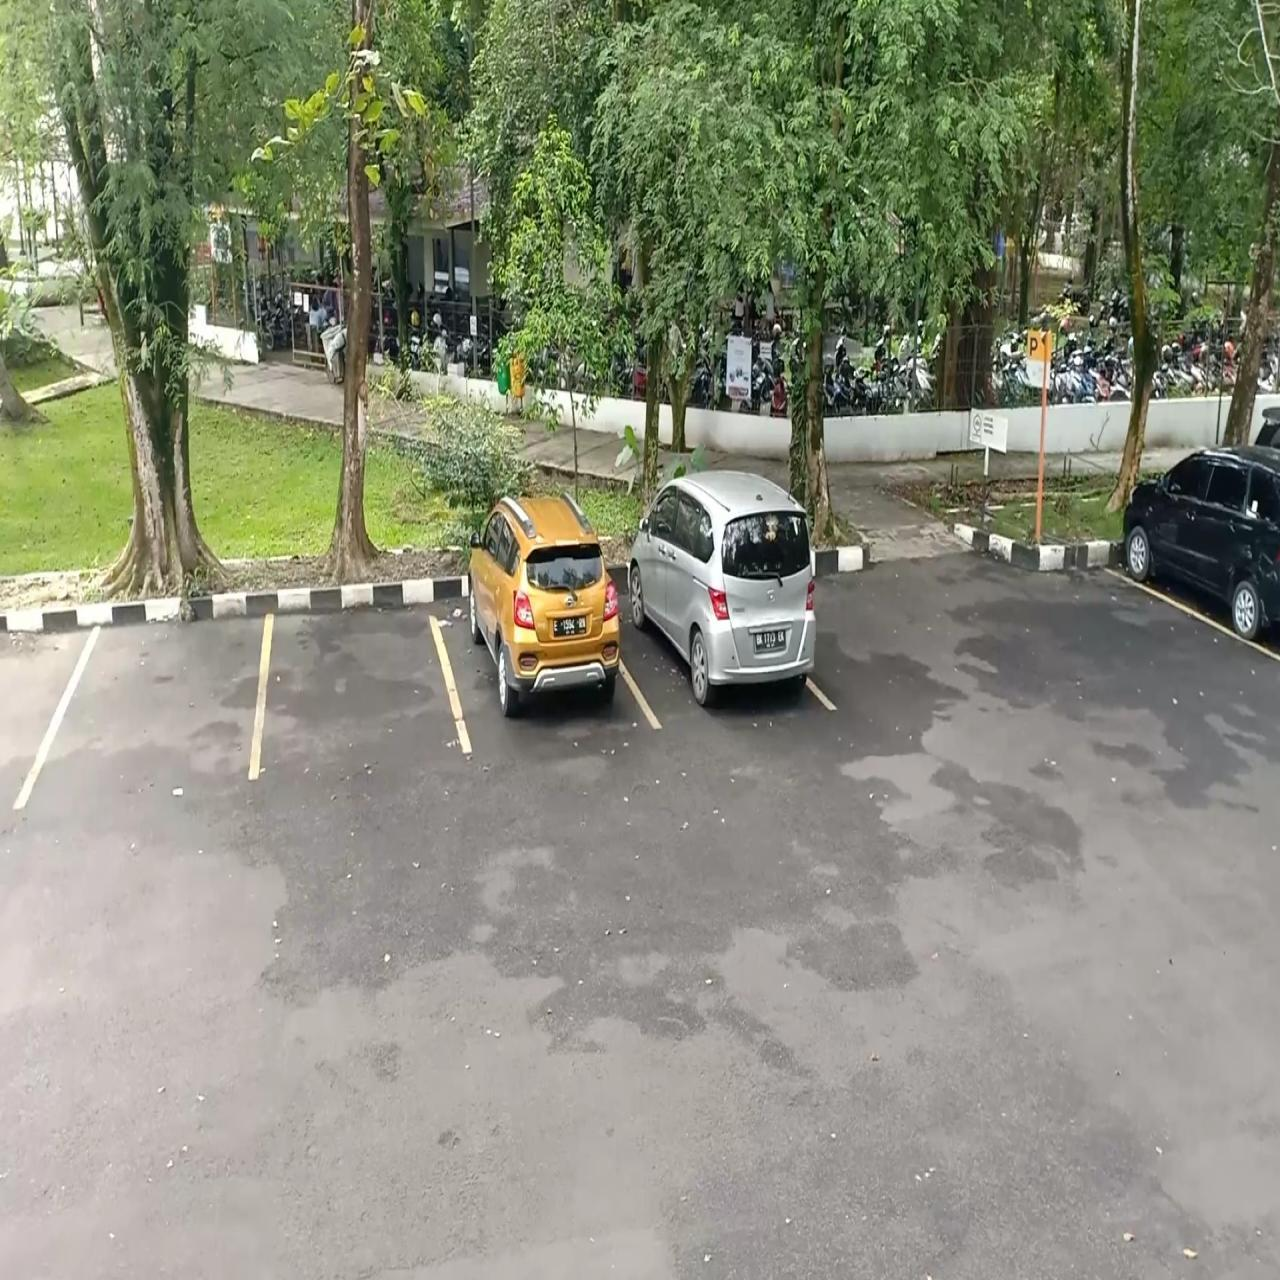empty: (256, 567, 457, 773), (49, 602, 265, 793)
occupied: (624, 536, 830, 732), (450, 536, 633, 753)
